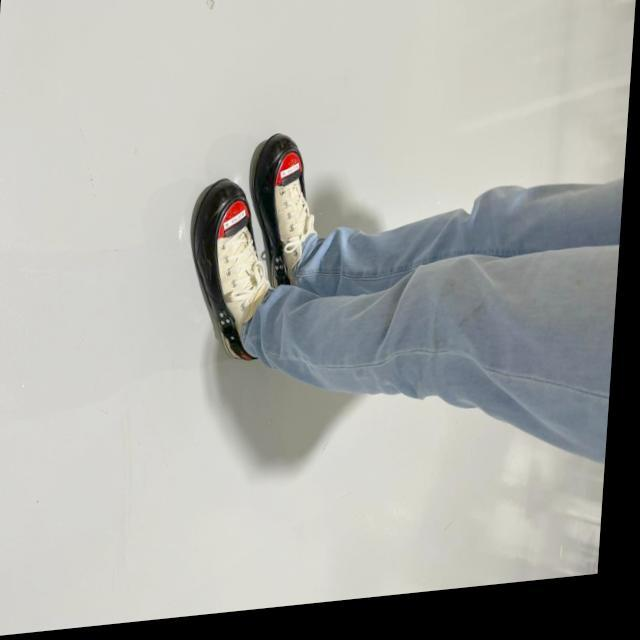shoes: (187, 176, 282, 359), (248, 128, 324, 282)
